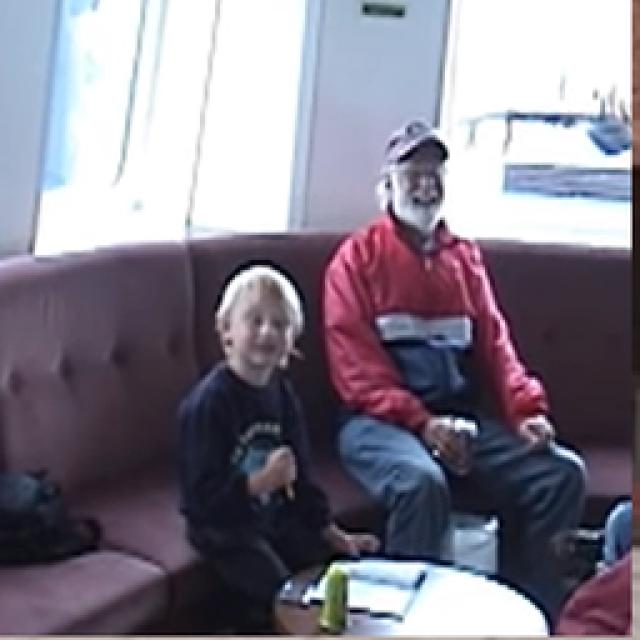adult: (329, 117, 585, 600)
child: (169, 266, 377, 622)
